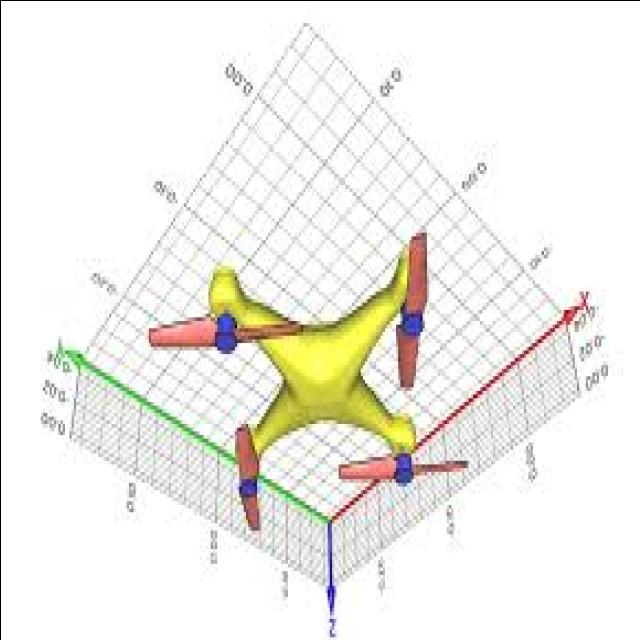drone: (124, 224, 470, 516)
